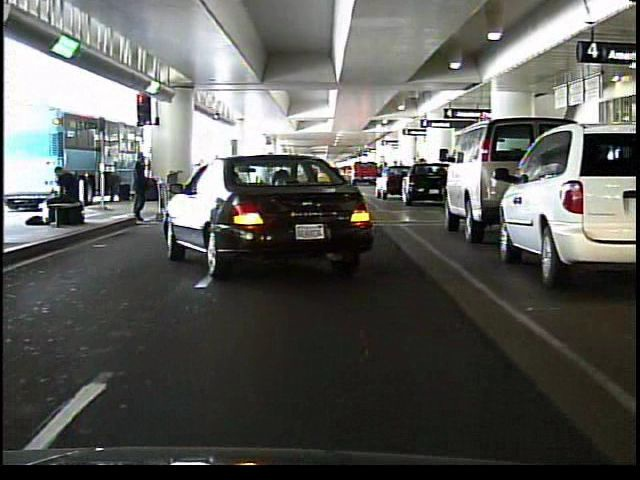person: (45, 164, 83, 233), (126, 150, 154, 229)
